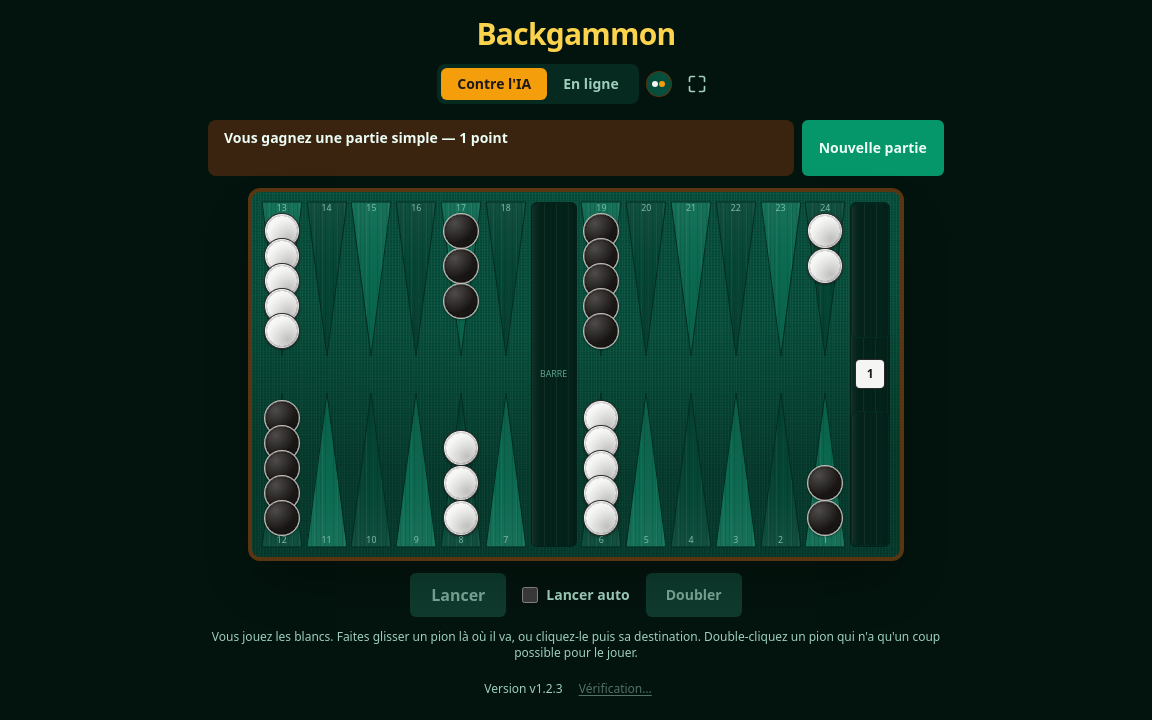
it: the fullscreen layout › puts the new-game button where the roll buttons were once the game is over
The width and height of the screenshot is (1152, 720).
Click the button named "Plein écran" at (697, 84), box [679,66,715,102]
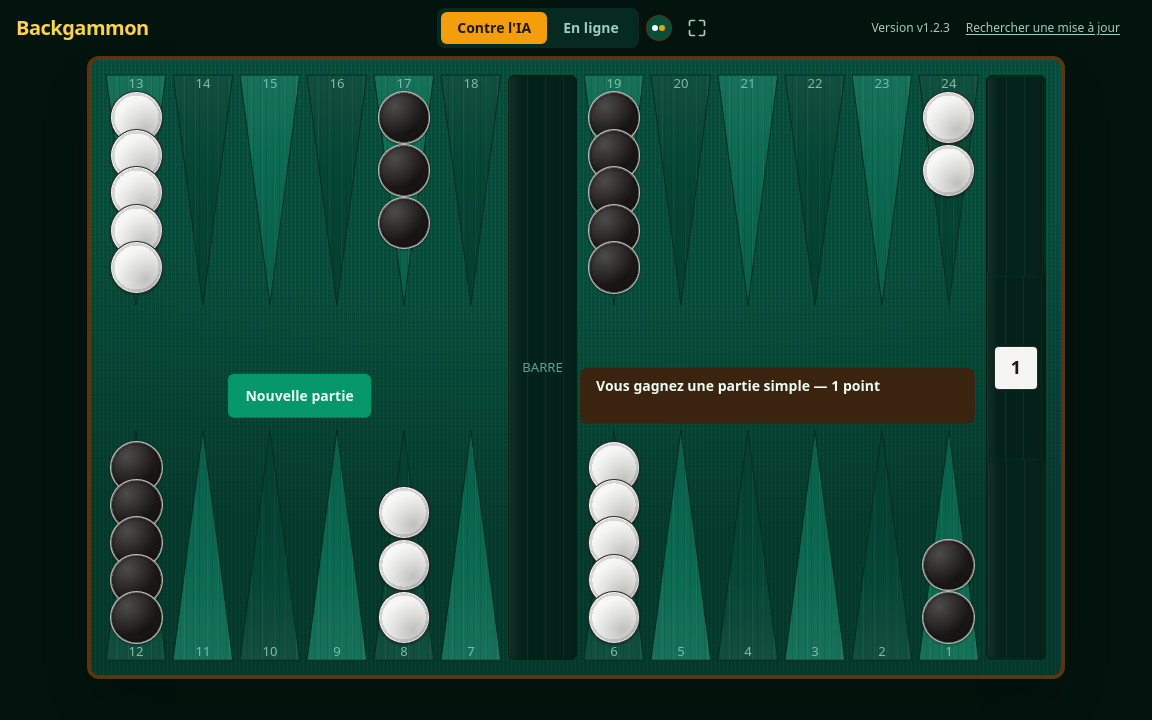
Expected: the button "Lancer" is gone
